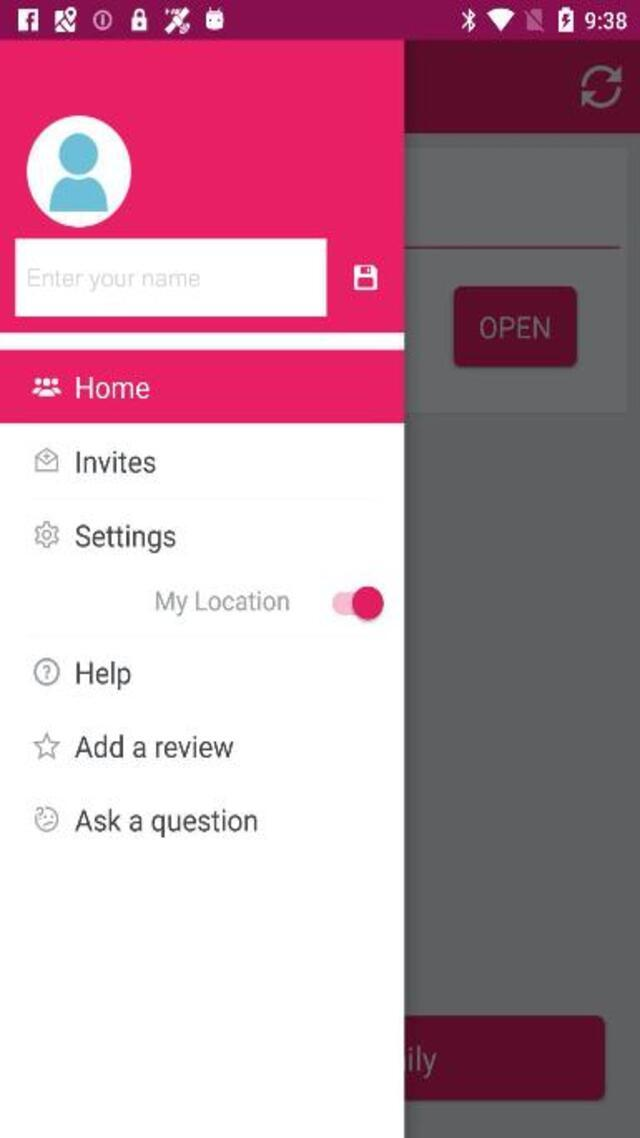CheckedTextView: (328, 582, 386, 625)
Icon: (26, 114, 130, 226), (580, 65, 624, 109), (33, 730, 61, 760), (33, 658, 60, 686), (34, 804, 59, 832), (34, 520, 59, 547), (32, 376, 62, 396), (35, 446, 58, 472), (354, 265, 377, 290)
Text: (75, 806, 258, 836), (74, 734, 234, 760), (29, 268, 200, 290), (154, 590, 288, 616), (74, 525, 175, 553), (76, 451, 156, 474), (76, 376, 150, 399), (76, 661, 130, 690)
TextButton: (454, 286, 577, 368)
